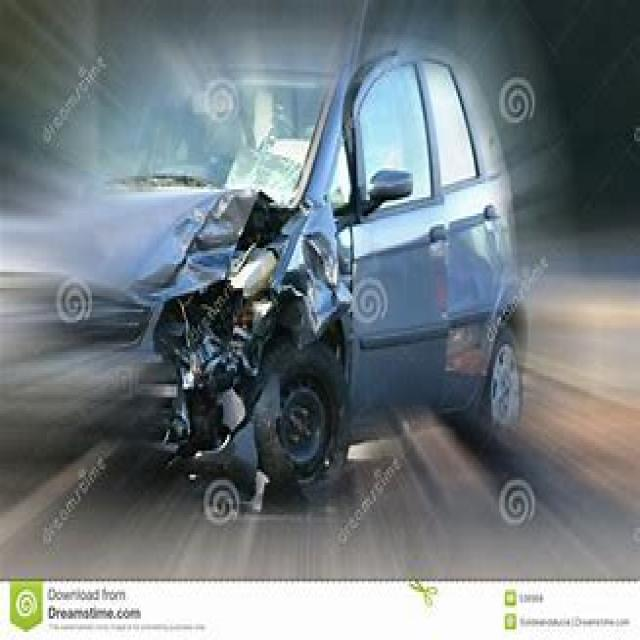Accident: (76, 50, 490, 506)
